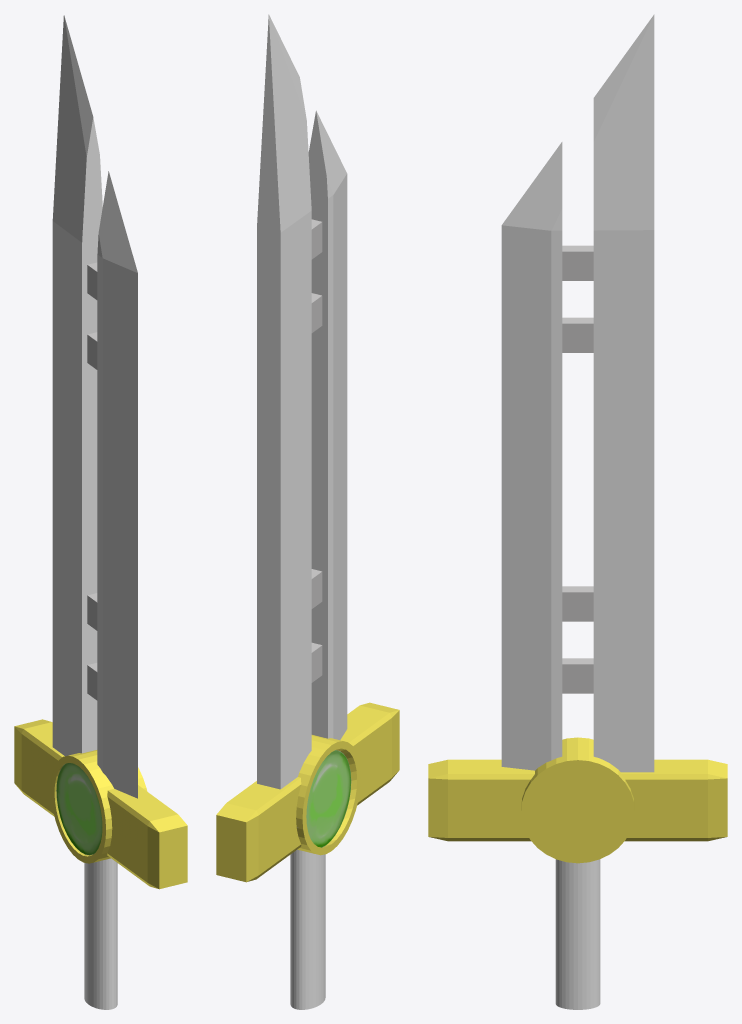
Rendered from hammer.obj.
3 views of the same model, side by side, from view 1: azimuth 30°, elevation 25°; view 2: azimuth 150°, elevation 25°; view 3: azimuth 270°, elevation 25° (orthographic). The views are drawn at different scales.
Visible parts, largest first — view 1: 円柱; view 2: 円柱; view 3: 円柱.
Part boxes in pixels (x1=…): 円柱: x1=14, y1=15, x2=187, y2=1009; 円柱: x1=216, y1=14, x2=399, y2=1009; 円柱: x1=428, y1=14, x2=727, y2=1009.
Size of the model in its own units: 0.2618 by 5.34 by 1.46.
1 material, 1 textured.
